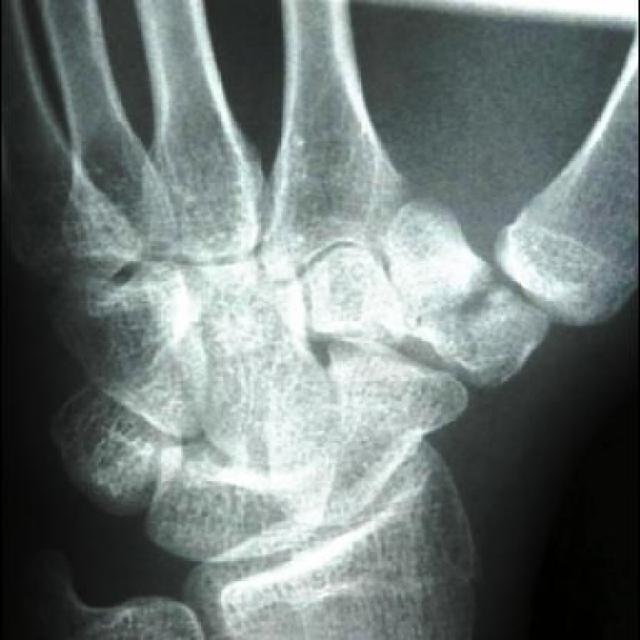Fracture: (402, 245, 530, 371)
